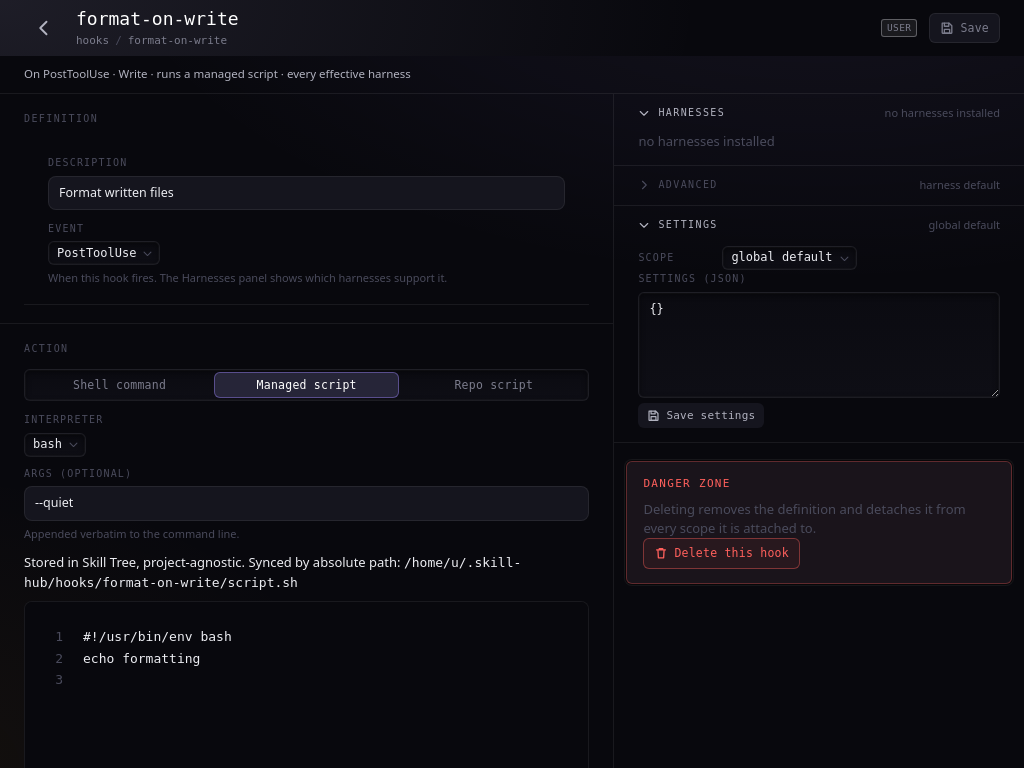
HookActionEditor — managed body is saved with the form (D6) › an unchanged body is NOT rewritten on save
Check: the field with class "cm-content" shows "echo formatting", box [83,629,232,666]
Touch only a definition field.
Replace the text in the field named "script args" with "--verbose" at [307, 503], box [24,486,589,520]
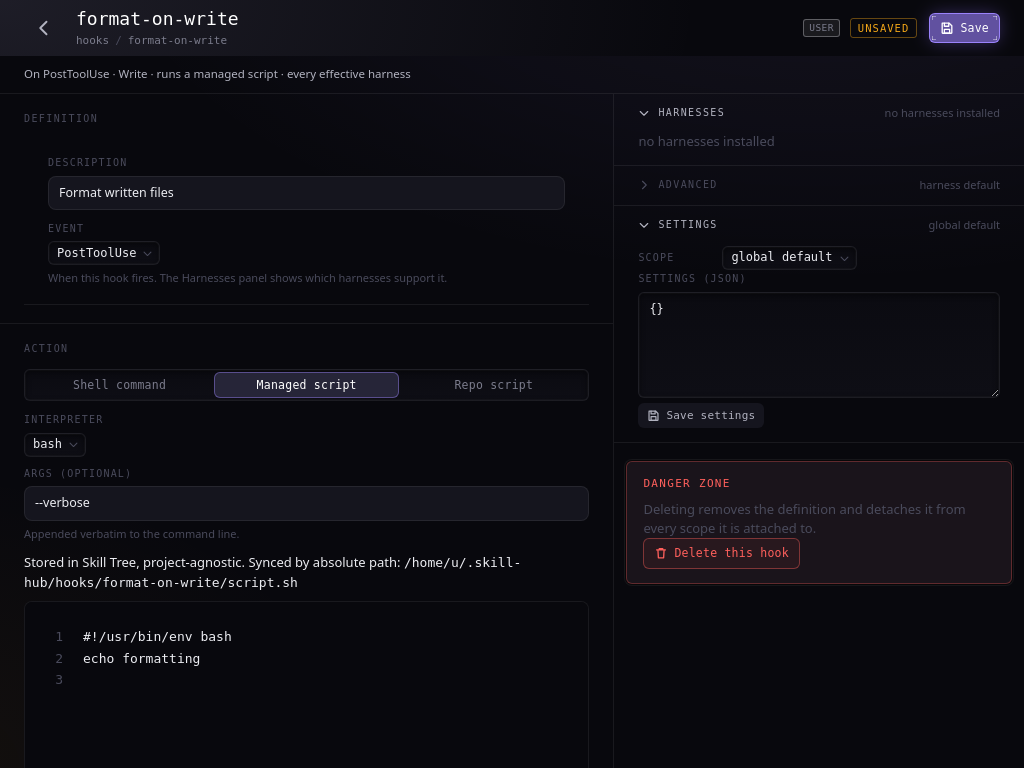
Click the button "Save" at [965, 28], box [929,13,1000,43]
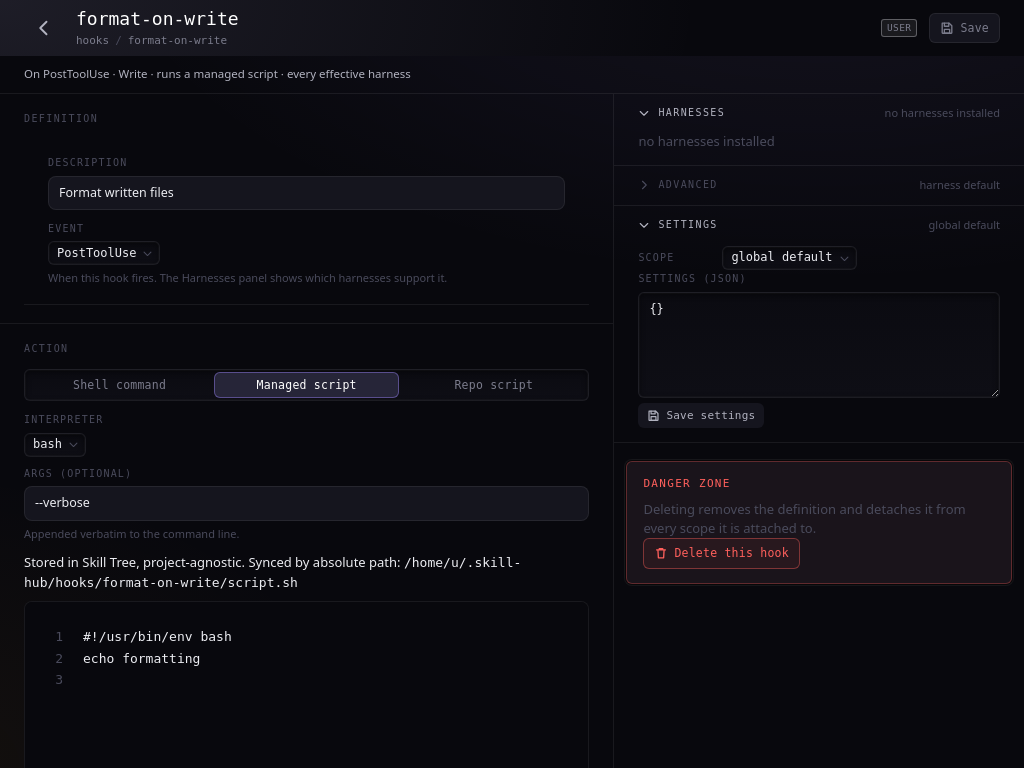
Check: the text "UNSAVED" is gone
